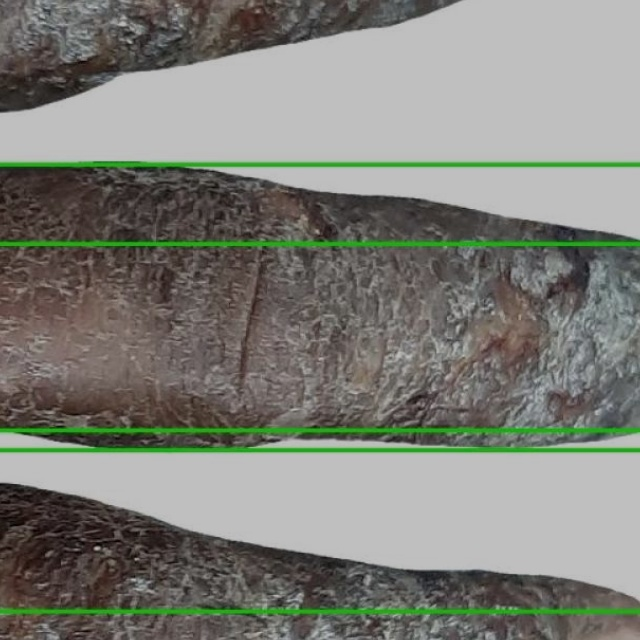Eczema: (0, 164, 639, 450), (0, 0, 639, 242), (0, 430, 639, 611)
